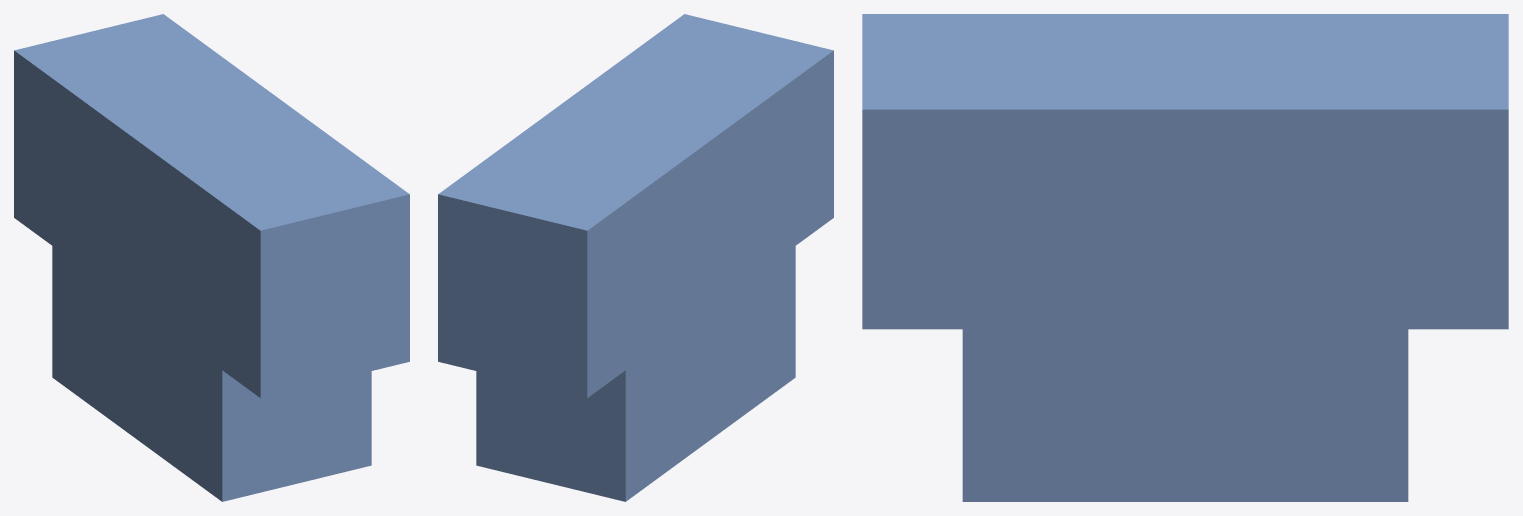
The model's file is step_09.glb.
3 renders of one model, left to right at view 1: azimuth 30°, elevation 25°; view 2: azimuth 150°, elevation 25°; view 3: azimuth 270°, elevation 25°, orthographic. The views are drawn at different scales.
Parts seen in each view (by area): view 1: part__moving jaw; view 2: part__moving jaw; view 3: part__moving jaw.
Boxes of the visible parts, x1,y1,x2,y2 form: part__moving jaw: (14,14,409,501); part__moving jaw: (438,14,833,501); part__moving jaw: (862,14,1508,501).
Size of the model in its own units: 35 by 67 by 100.
